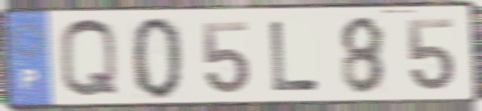0: (129, 15, 184, 102)
5: (404, 16, 458, 92), (199, 19, 253, 95)
8: (337, 14, 390, 97)
L: (267, 19, 323, 94)
Q: (56, 16, 123, 102)
